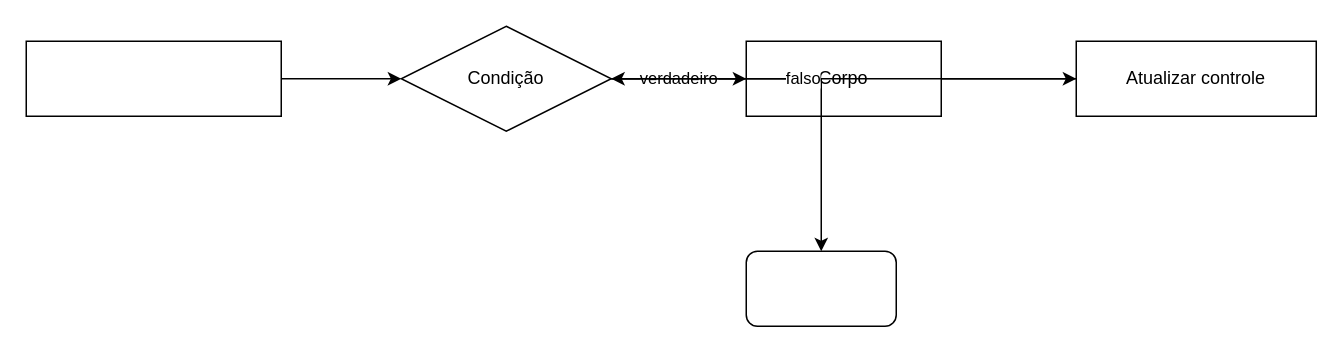
Image size: 1343x353. Some labels were removed from this diagram. The shapes that lost their labels are listed below. From the top down, each one's centre as x and y in pixels, then its label:
(153,78): Inicializar controle
(820,288): Fim
